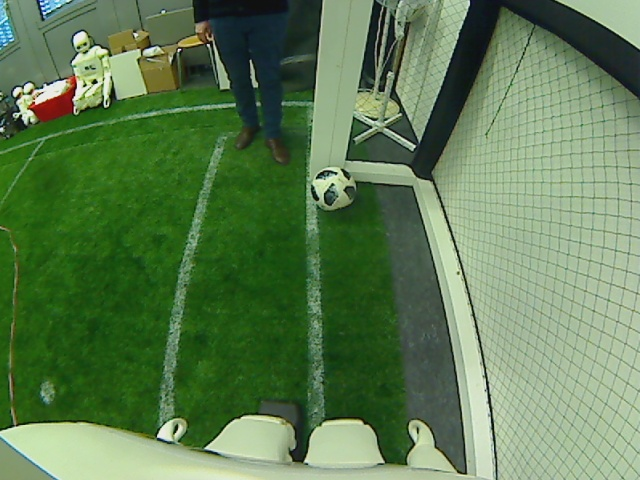ball: (312, 165, 356, 210)
